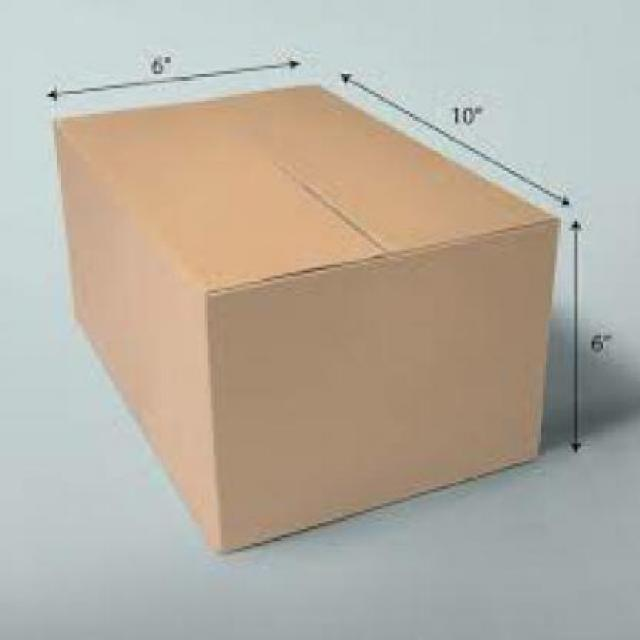box: (40, 79, 572, 572)
